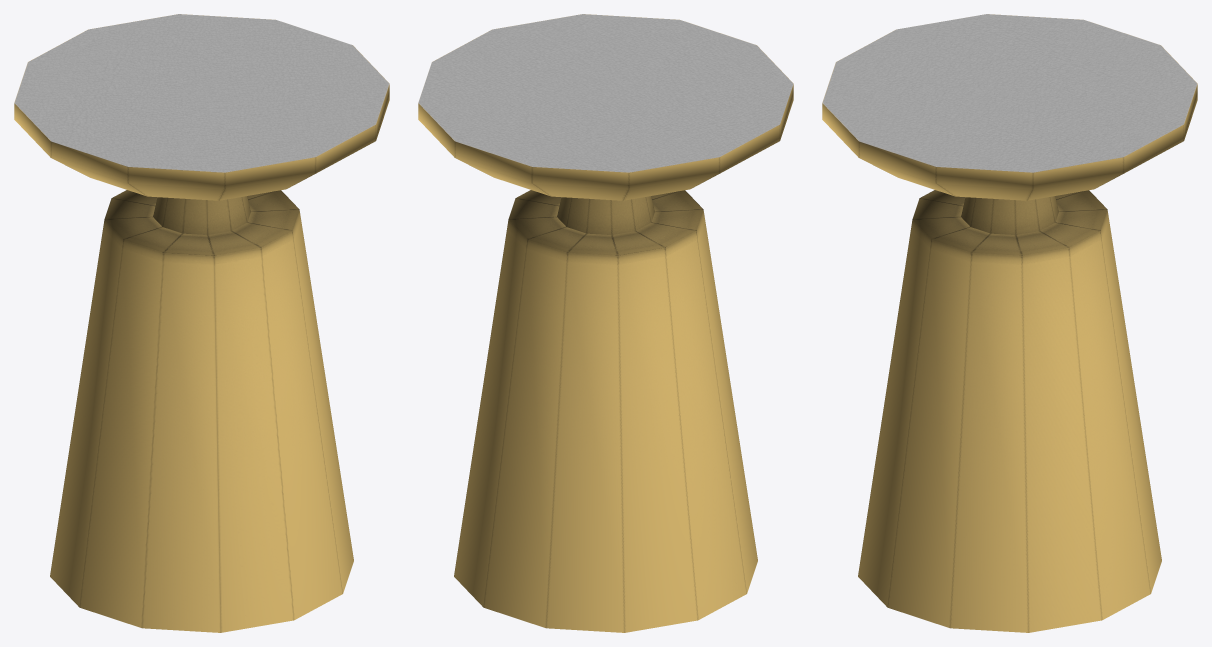
The model's file is Pallet.fbx.
3 views of the same model, side by side, from view 1: azimuth 30°, elevation 25°; view 2: azimuth 150°, elevation 25°; view 3: azimuth 270°, elevation 25° (orthographic).
Visible parts, largest first — view 1: Pallet; view 2: Pallet; view 3: Pallet.
Boxes of the visible parts, x1,y1,x2,y2 form: Pallet: [14, 14, 389, 632]; Pallet: [418, 14, 793, 632]; Pallet: [822, 14, 1197, 632].
Bounding box in the file's own units: 3.53 × 4.94 × 3.53.
Materials: 1 (1 with a texture image).
